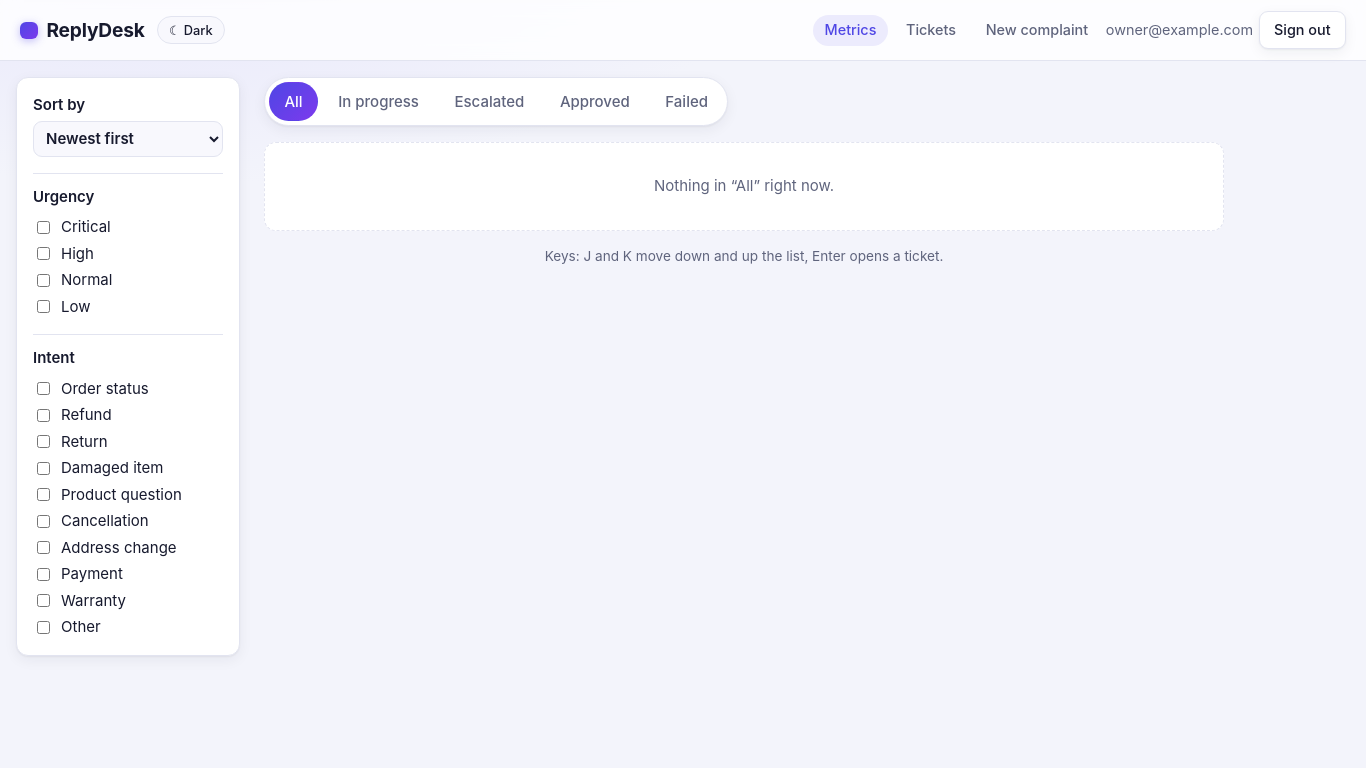
Test: the queue › asks for the tab's statuses and changes them when the tab changes
The width and height of the screenshot is (1366, 768).
Expected: the text "Nothing in “All” right now." is shown, x1=264 y1=142 x2=1224 y2=231
What coordinates should you click on to do the following:
click the tab "In progress"
I would click on:
 (379, 102)
Its box is x1=323 y1=82 x2=434 y2=121.
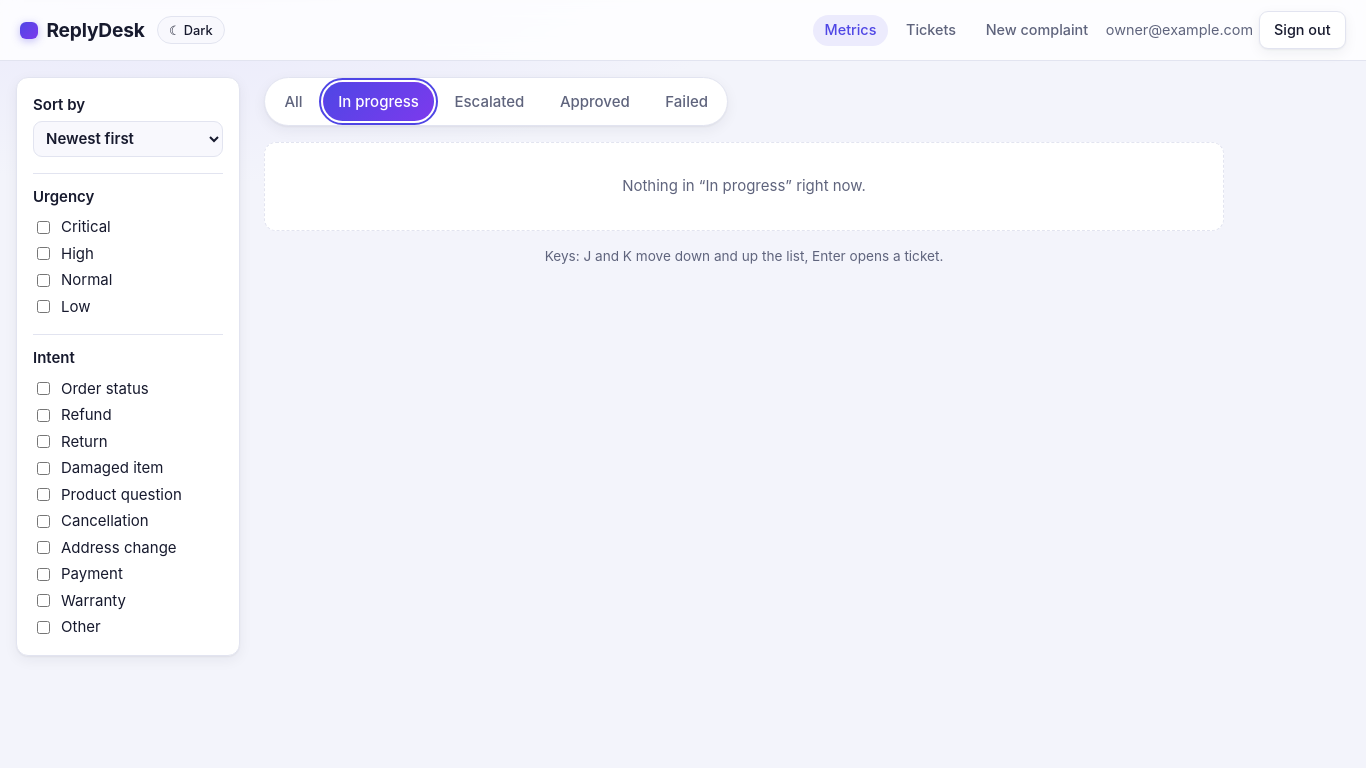
What coordinates should you click on to do the following:
click the tab "Escalated"
I would click on:
 (489, 102)
Its box is x1=439 y1=82 x2=540 y2=121.
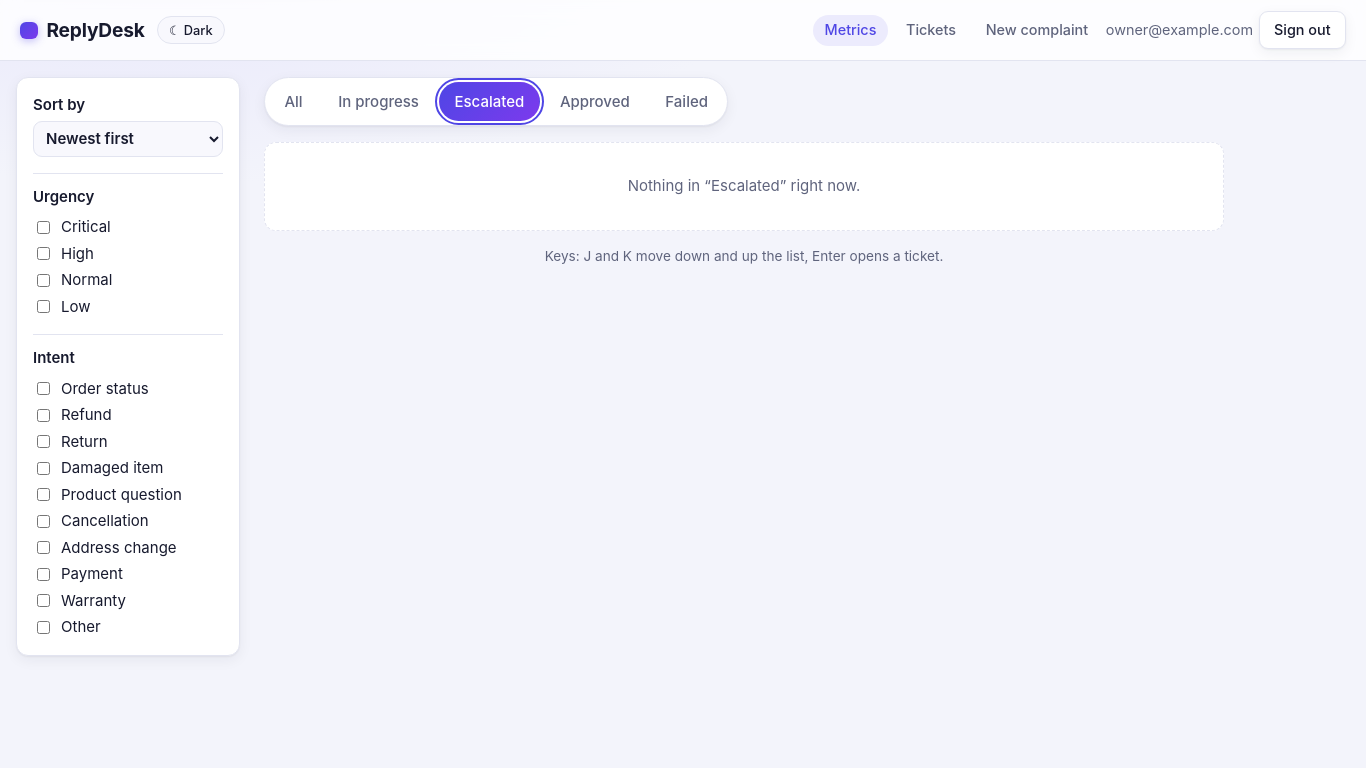
Expected: the text "Nothing in “Escalated” right now." is shown, x1=264 y1=142 x2=1224 y2=231
